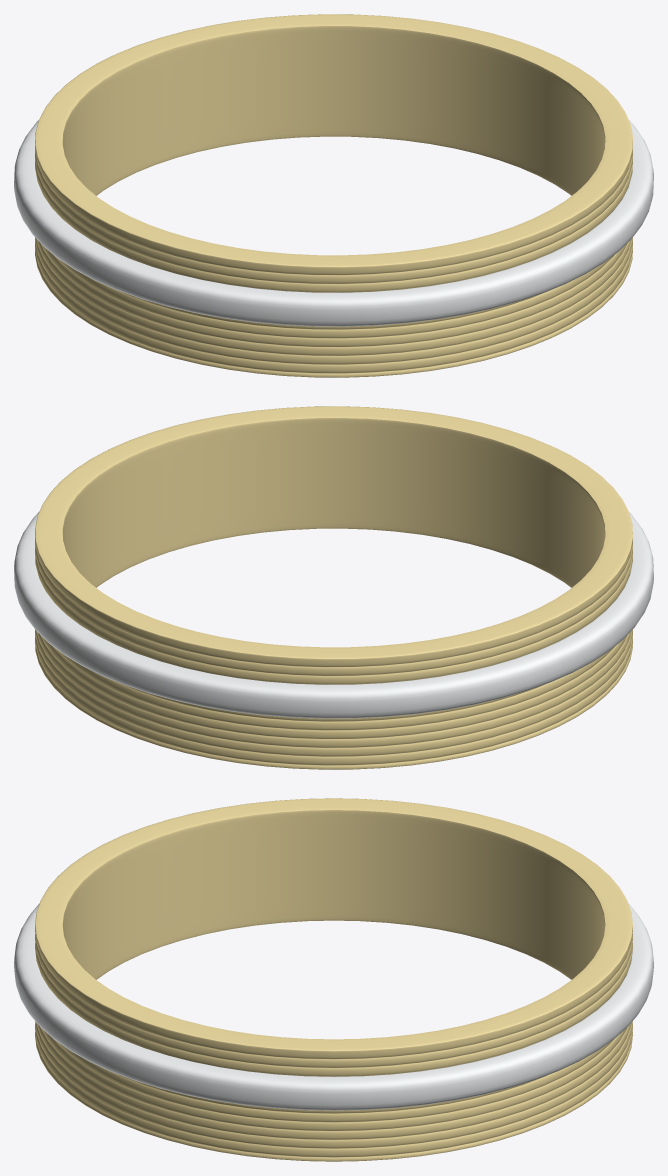
3 views of the same model, one above another, from view 1: azimuth 30°, elevation 25°; view 2: azimuth 150°, elevation 25°; view 3: azimuth 270°, elevation 25° (orthographic).
Parts seen in each view (by area): view 1: Base_Metal, Engraving_Metal, Finishing_Metal; view 2: Base_Metal, Engraving_Metal, Finishing_Metal; view 3: Base_Metal, Engraving_Metal, Finishing_Metal.
Part boxes in pixels (box(x1,y1,x2,y2)): Base_Metal: box(35, 14, 632, 377); Engraving_Metal: box(62, 26, 605, 195); Finishing_Metal: box(14, 119, 653, 326); Base_Metal: box(35, 406, 632, 769); Engraving_Metal: box(62, 418, 605, 587); Finishing_Metal: box(14, 511, 653, 718); Base_Metal: box(35, 798, 632, 1161); Engraving_Metal: box(62, 810, 605, 979); Finishing_Metal: box(14, 903, 653, 1110).
Bounding box in the file's own units: 2.35 × 0.4499 × 2.35.
